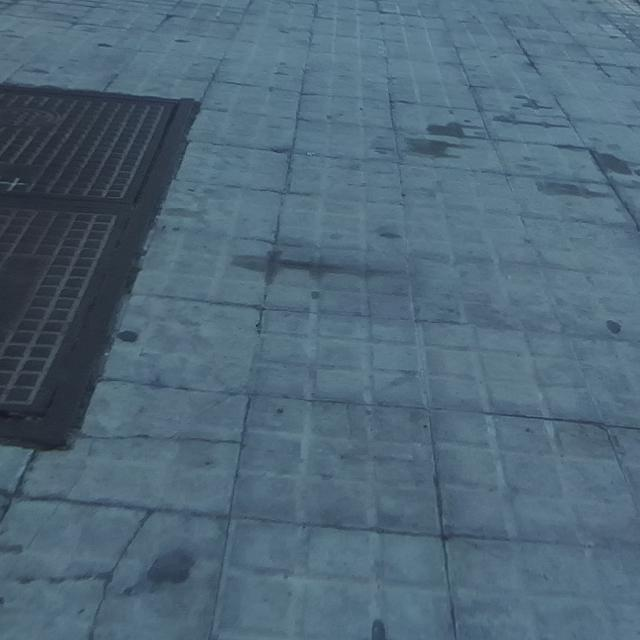calcada_quebrada: (19, 503, 157, 640), (75, 425, 244, 460)
